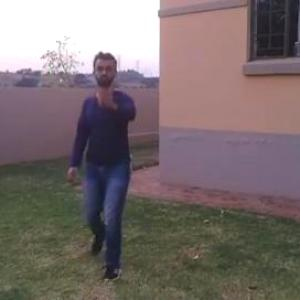takeoff-hand: (96, 74, 125, 111)
